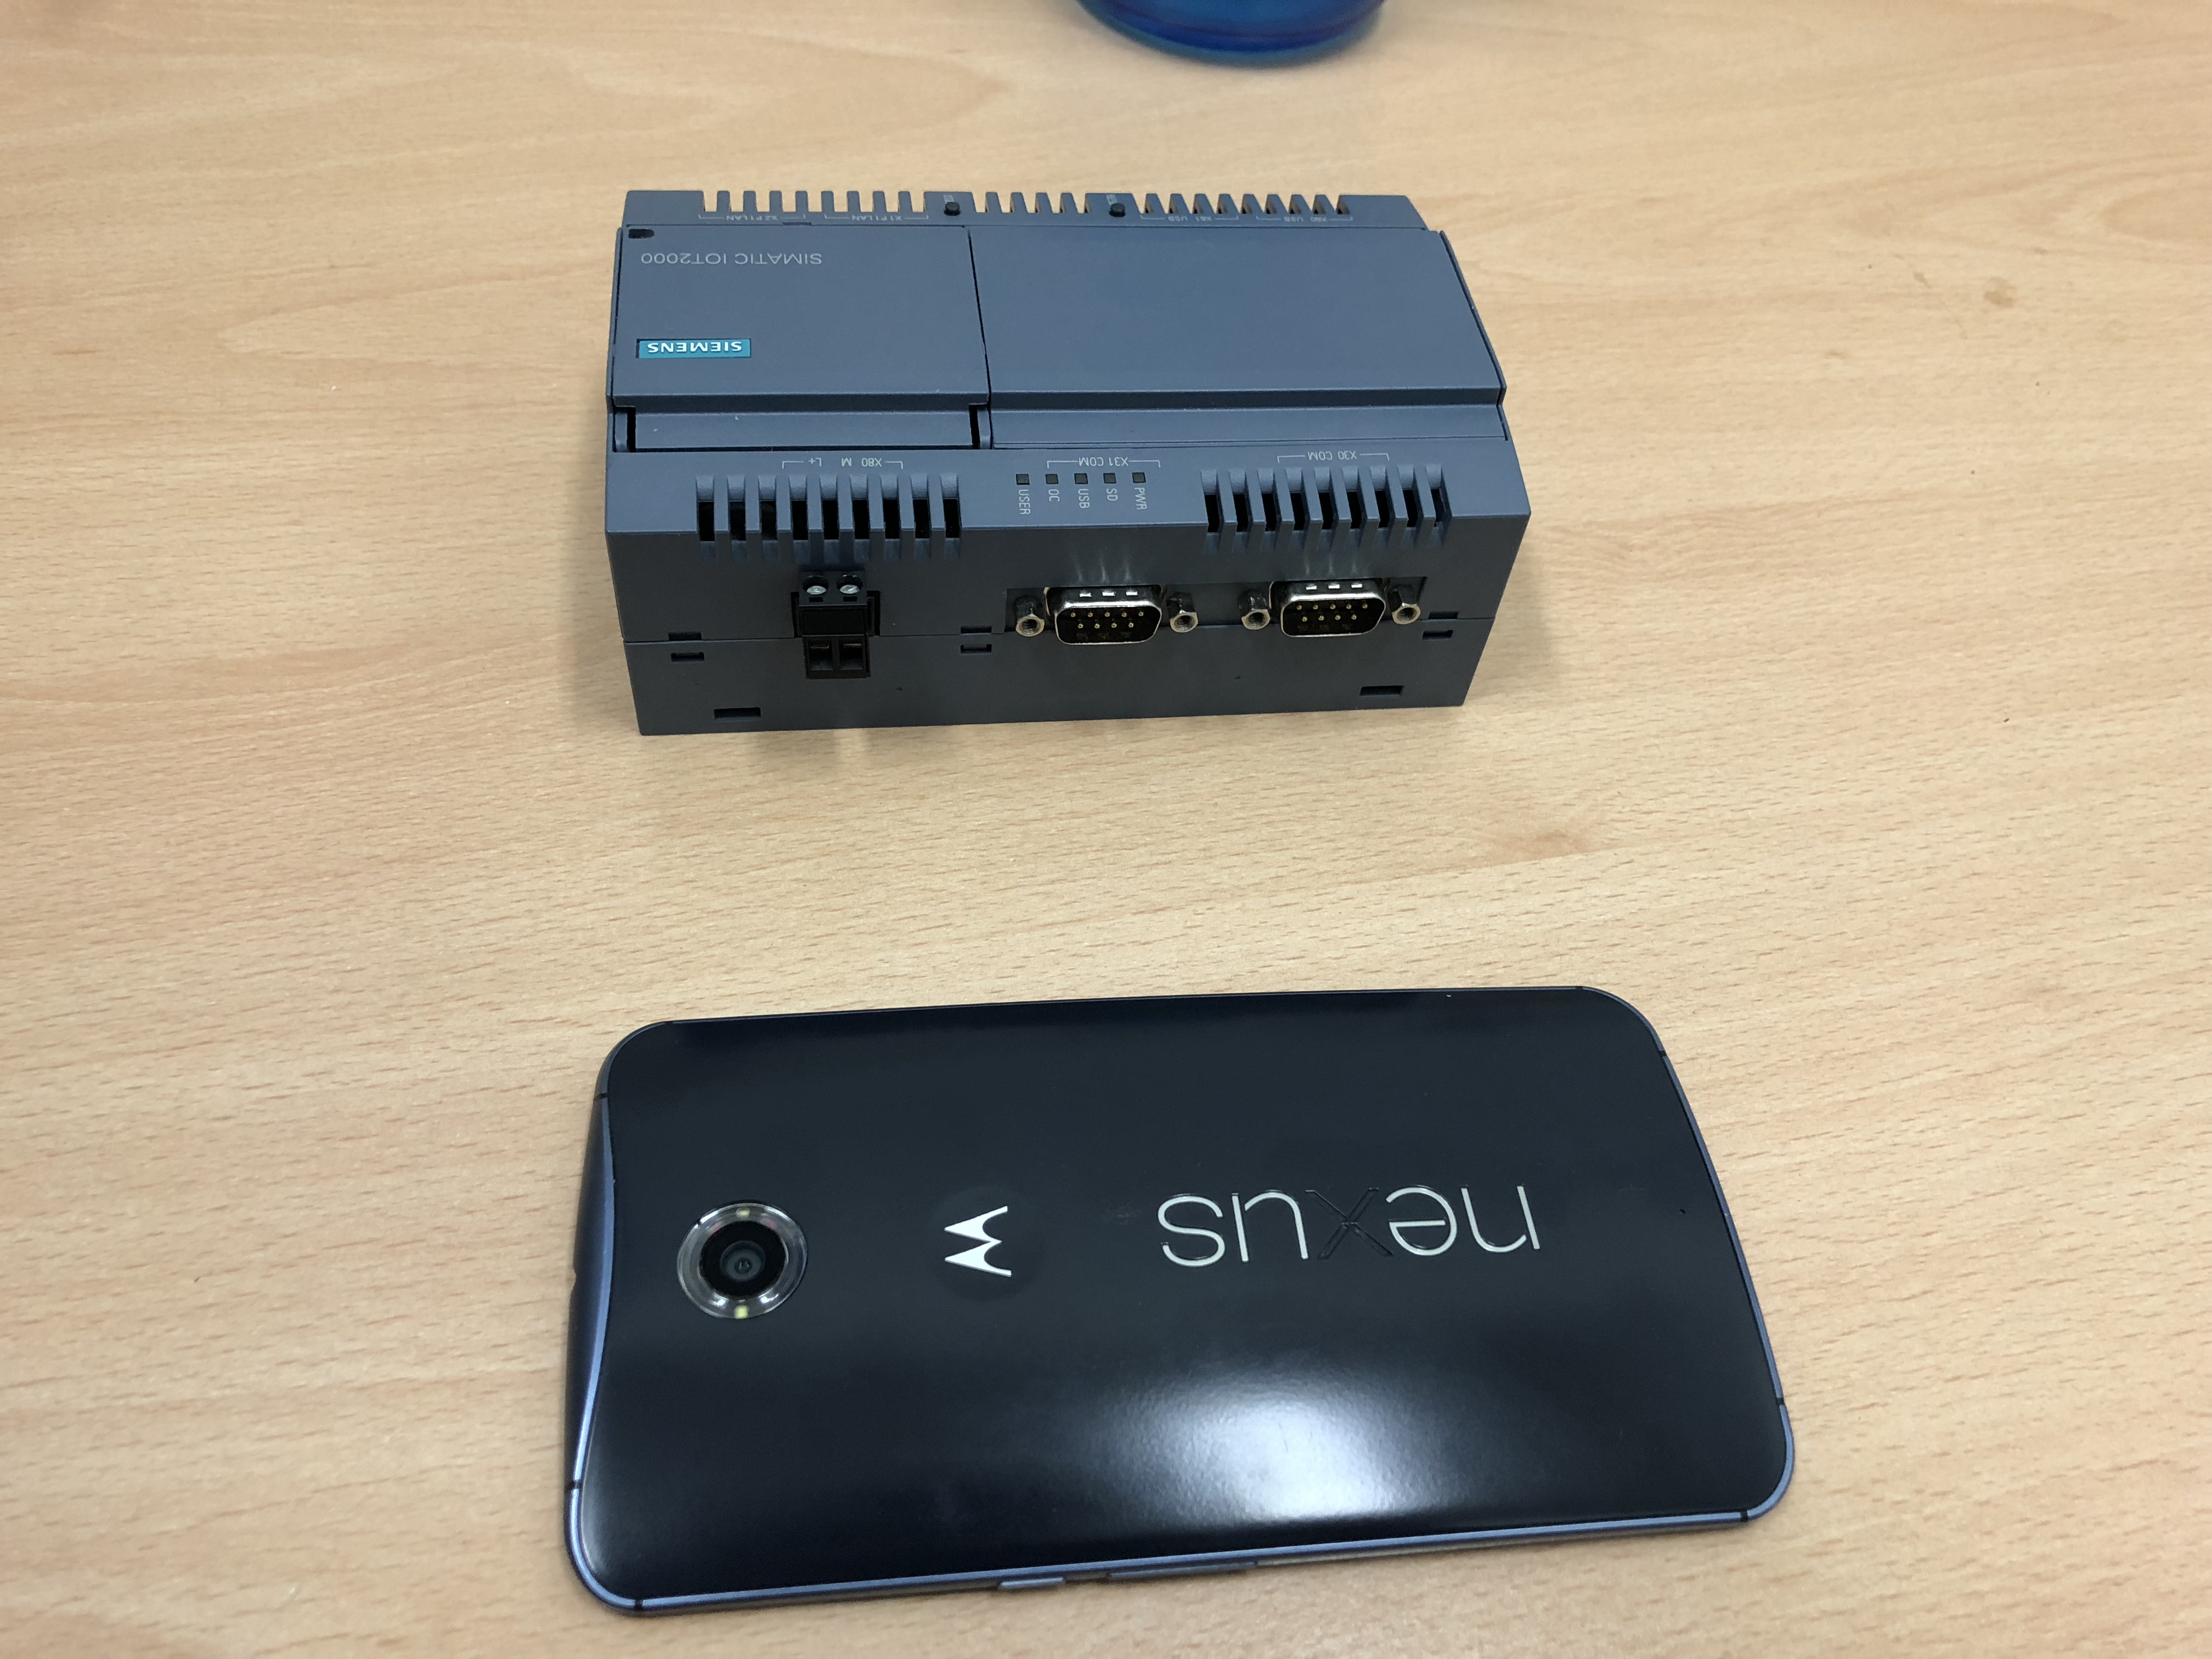device: (604, 190, 1531, 737)
